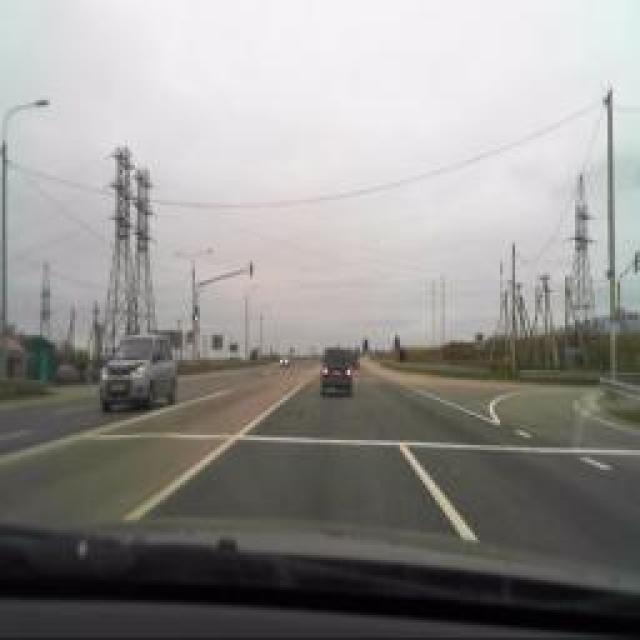sign: (475, 331, 485, 351)
